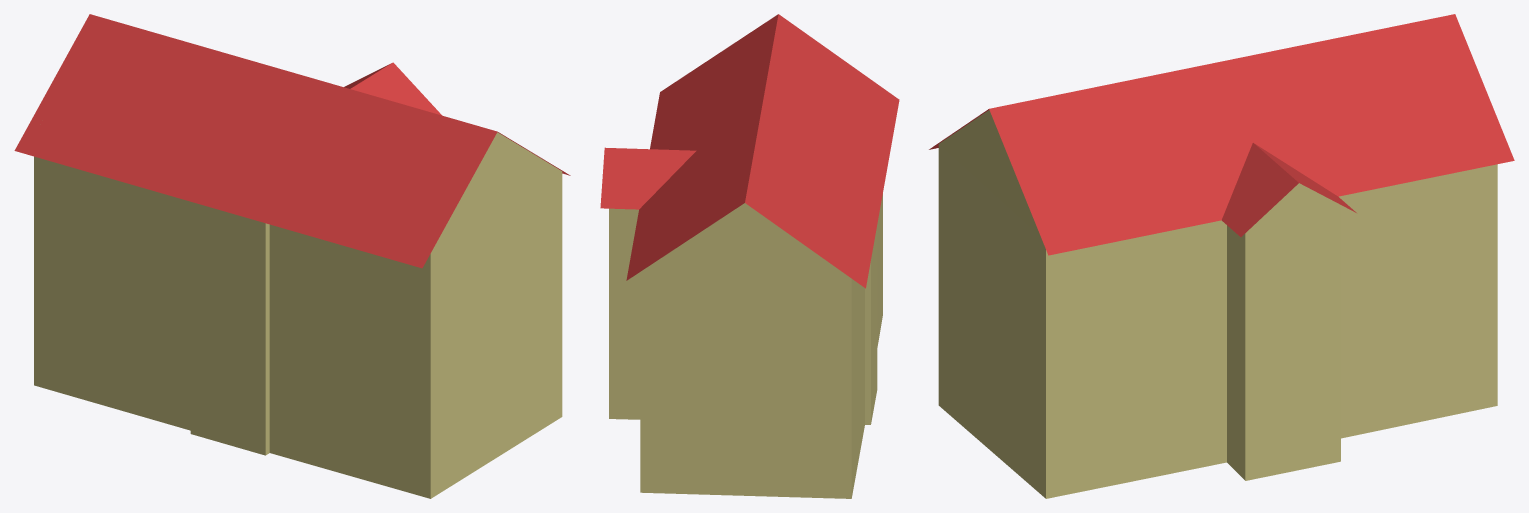
3 renders of one model, left to right at view 1: azimuth 30°, elevation 25°; view 2: azimuth 150°, elevation 25°; view 3: azimuth 270°, elevation 25°, orthographic. The views are drawn at different scales.
Size of the model in its own units: 20.11 by 24.87 by 16.06.
